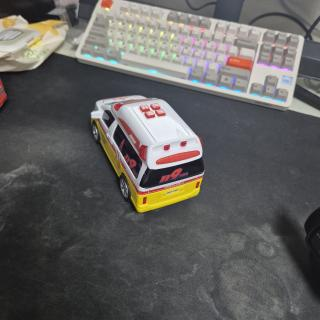Ambulance: (91, 96, 204, 212)
